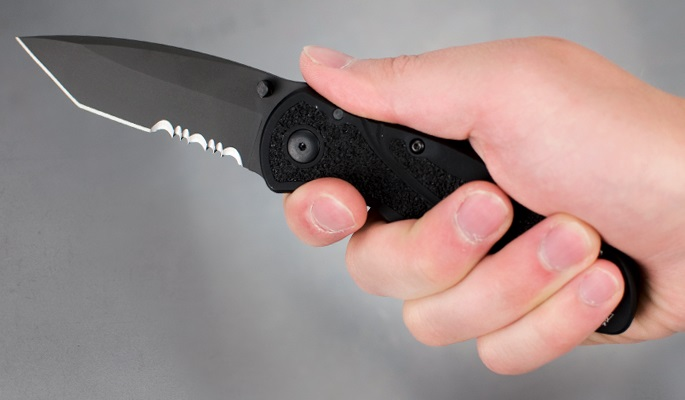knife: (9, 24, 515, 267)
